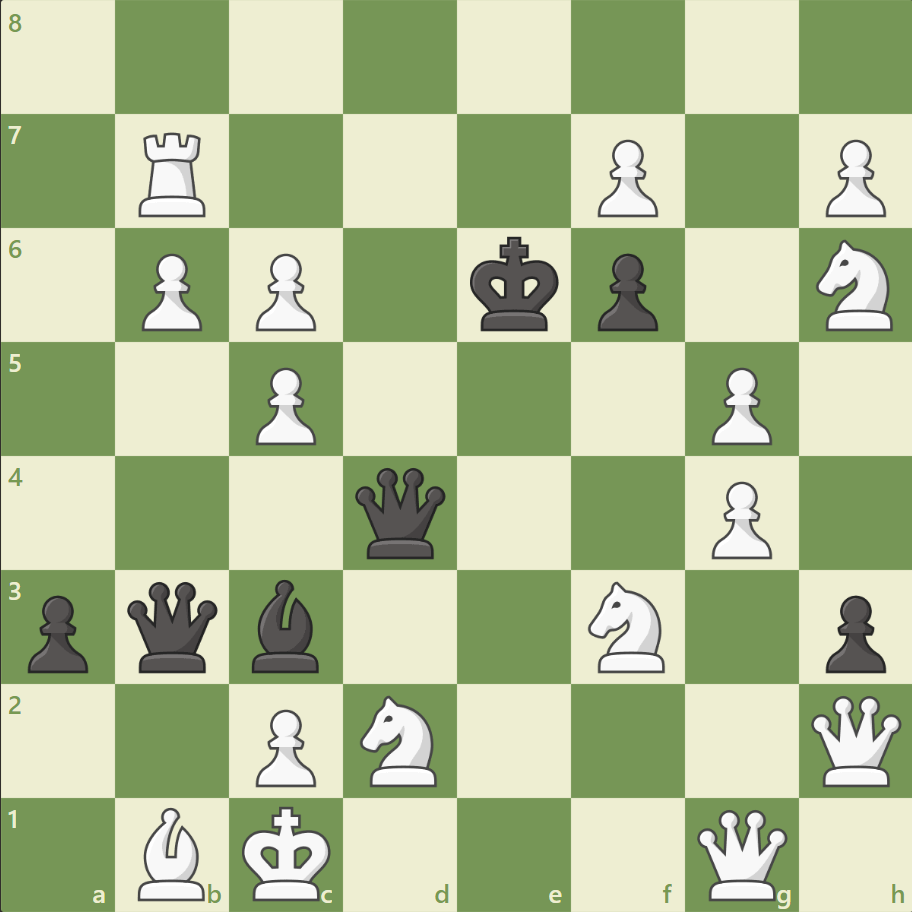B: (131, 801, 215, 904)
K: (238, 798, 338, 906)
N: (351, 688, 449, 791), (806, 234, 903, 337), (579, 575, 676, 677)
P: (133, 246, 208, 337), (247, 246, 322, 337), (247, 359, 322, 450), (701, 359, 776, 450), (701, 473, 776, 564), (247, 700, 322, 791), (588, 132, 662, 223), (815, 132, 889, 223)
Q: (805, 690, 904, 789), (691, 804, 790, 903)
R: (133, 125, 215, 222)
b: (244, 574, 328, 676)
k: (465, 231, 565, 339)
p: (20, 586, 95, 677), (588, 246, 662, 337), (815, 586, 889, 677)
q: (124, 576, 223, 676), (351, 463, 450, 562)
